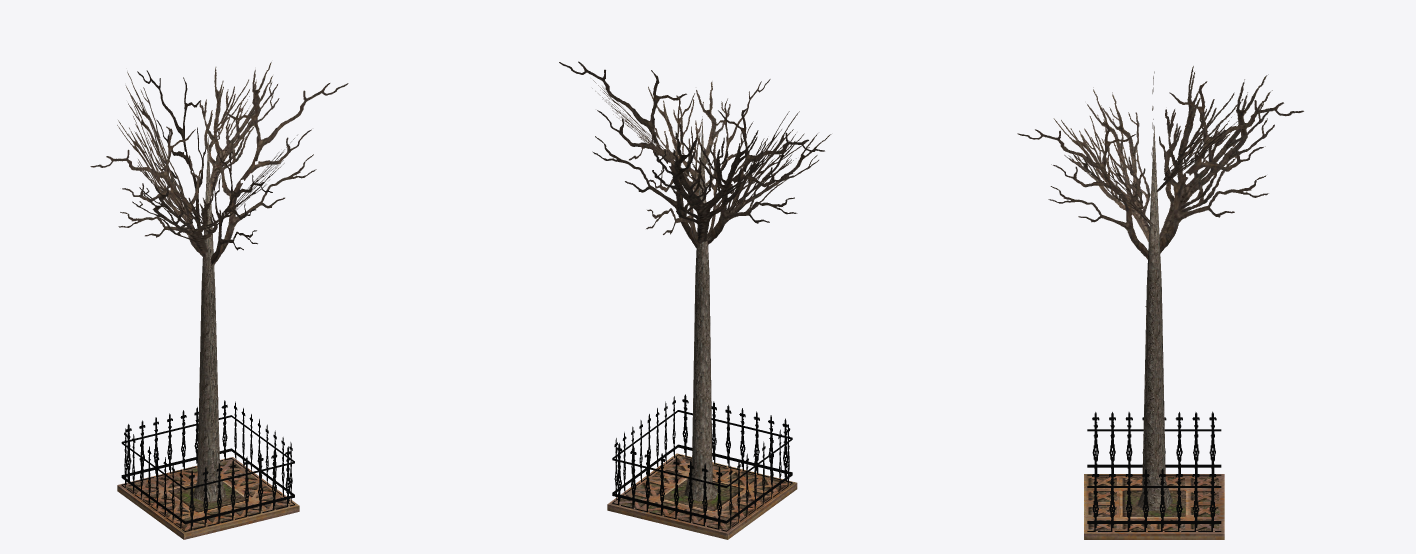
Rendered from tree1c_base.fbx.
3 renders of one model, left to right at view 1: azimuth 30°, elevation 25°; view 2: azimuth 150°, elevation 25°; view 3: azimuth 270°, elevation 25°, orthographic. The views are drawn at different scales.
Visible parts, largest first — view 1: mesh_4, mesh_0, mesh_2, mesh_3; view 2: mesh_4, mesh_0, mesh_2, mesh_3; view 3: mesh_4, mesh_2, mesh_3, mesh_0.
Part boxes in pixels (bbox=[...]): mesh_4: bbox=[90, 62, 348, 321]; mesh_0: bbox=[121, 400, 294, 531]; mesh_2: bbox=[117, 457, 299, 539]; mesh_3: bbox=[193, 136, 225, 502]; mesh_4: bbox=[559, 61, 831, 248]; mesh_0: bbox=[612, 394, 792, 531]; mesh_2: bbox=[607, 453, 797, 539]; mesh_3: bbox=[684, 119, 717, 501]; mesh_4: bbox=[1017, 66, 1303, 306]; mesh_2: bbox=[1084, 474, 1224, 539]; mesh_3: bbox=[1137, 126, 1172, 510]; mesh_0: bbox=[1087, 411, 1221, 531].
Size of the model in its own units: 729 by 702 by 668.
4 materials, 4 textured.
